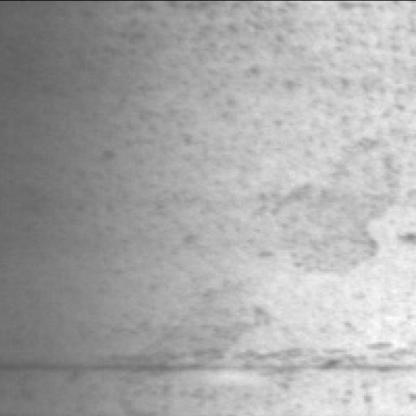inclusion: (6, 339, 393, 397)
pitted_surface: (19, 2, 407, 310)
